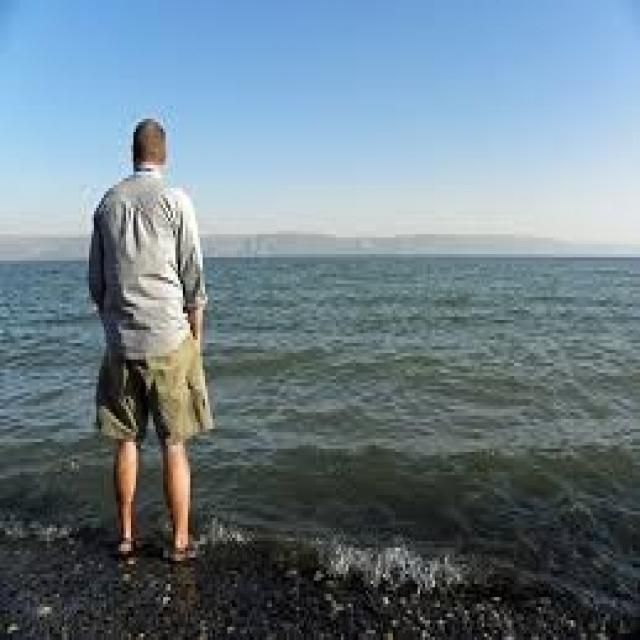walking: (68, 115, 218, 573)
